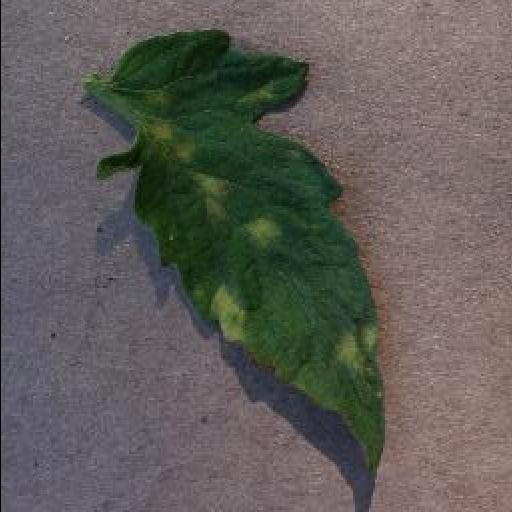disease_tomato: (97, 32, 387, 470)
